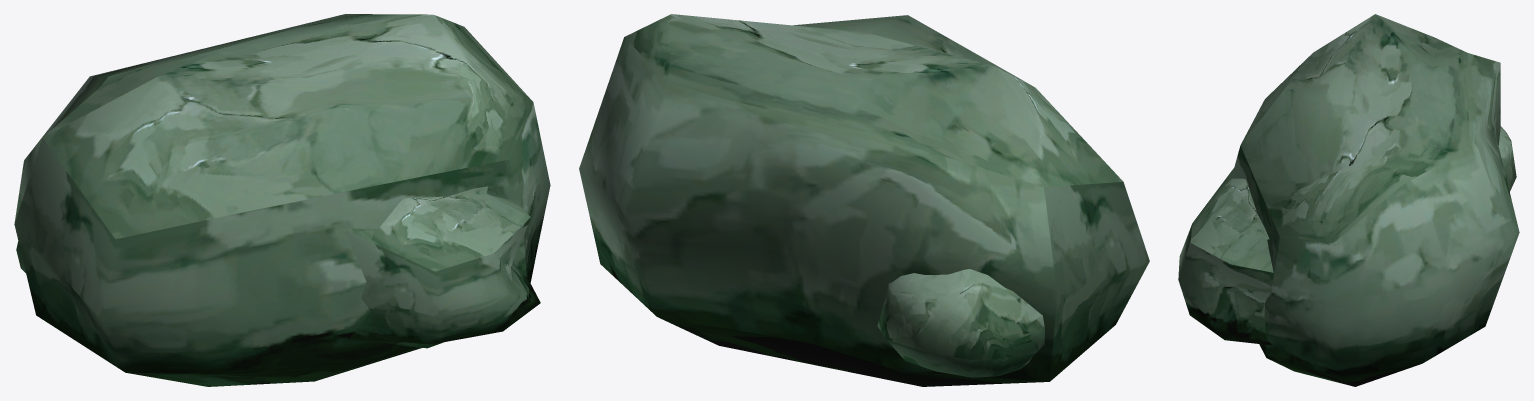
The model's file is dro_env_cover_rock_wide02.glb.
3 views of the same model, side by side, from view 1: azimuth 30°, elevation 25°; view 2: azimuth 150°, elevation 25°; view 3: azimuth 270°, elevation 25° (orthographic). The views are drawn at different scales.
Visible parts, largest first — view 1: dro_junglerock10; view 2: dro_junglerock10; view 3: dro_junglerock10.
Part boxes in pixels (left/top/right/bottom): dro_junglerock10: left=14, top=14, right=550, bottom=386; dro_junglerock10: left=579, top=14, right=1149, bottom=386; dro_junglerock10: left=1178, top=14, right=1519, bottom=386.
Bounding box in the file's own units: 0.2769 × 0.1689 × 0.2033.
1 material, 1 textured.
